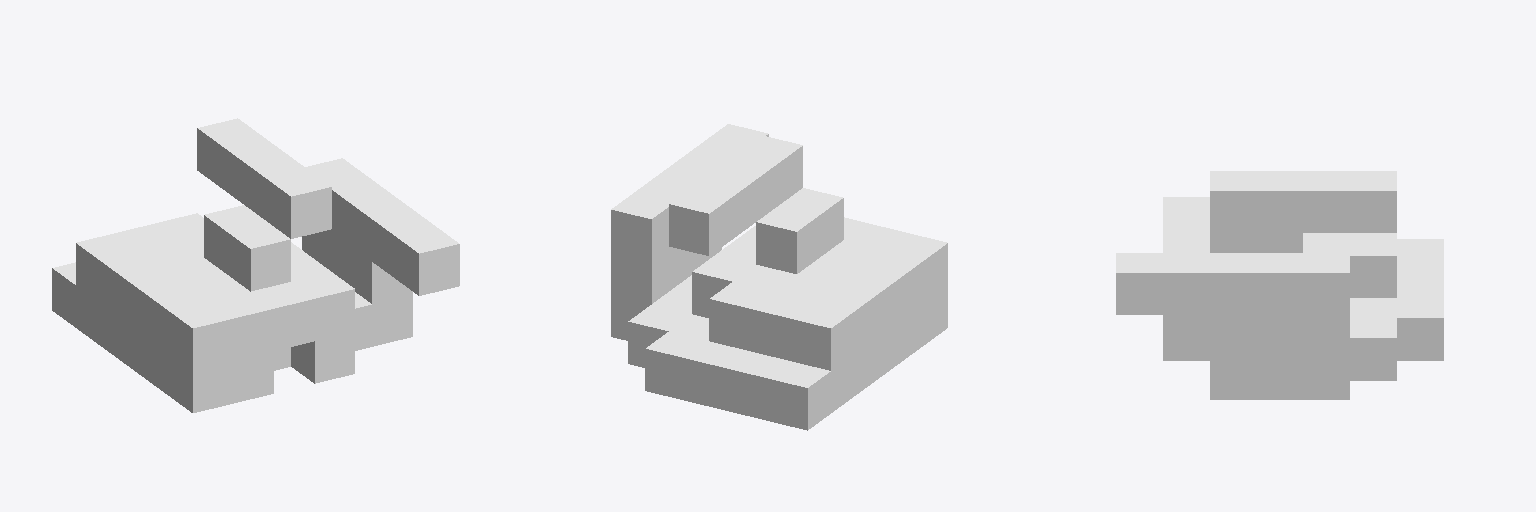
File: SpaceInvaders5.5.obj
The picture shows the model from 3 angles: view 1: azimuth 30°, elevation 25°; view 2: azimuth 150°, elevation 25°; view 3: azimuth 270°, elevation 25°; orthographic projection.
Visible parts, largest first — view 1: object 1; view 2: object 1; view 3: object 1.
Boxes of the visible parts, <box> form: object 1: <box>52,118,459,412</box>; object 1: <box>611,124,947,430</box>; object 1: <box>1116,171,1443,399</box>.
Size of the model in its own units: 0.6 by 0.4 by 0.7.